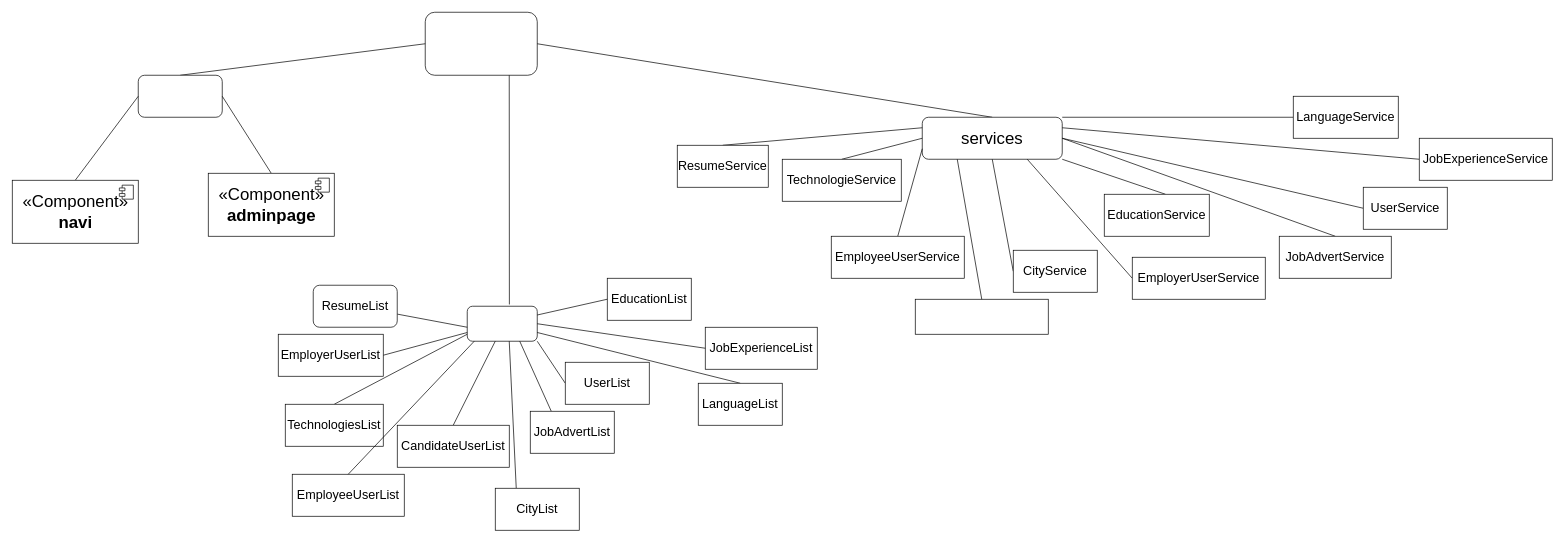
This 1565x543 diagram has some shape labels left out. The centre of each missing label's shape, as x and y in pixels:
app: point 481,43
CandidateUserService: point 981,316
layouts: point 180,96
pages: point 502,323
